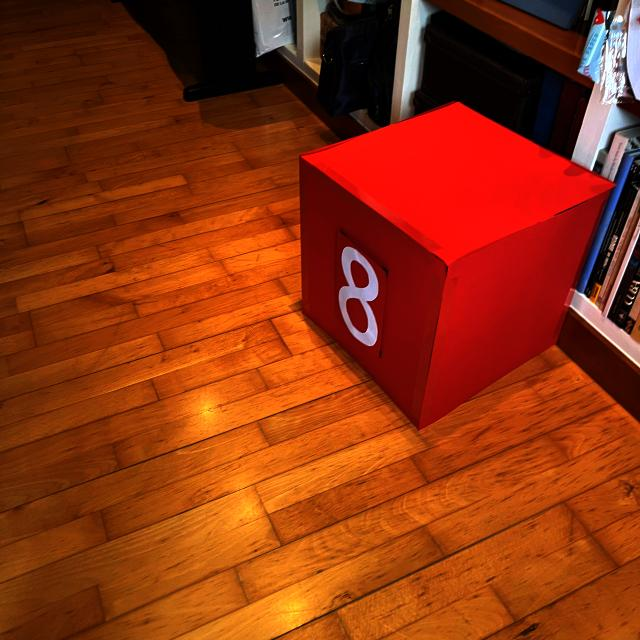box: (296, 98, 615, 431)
